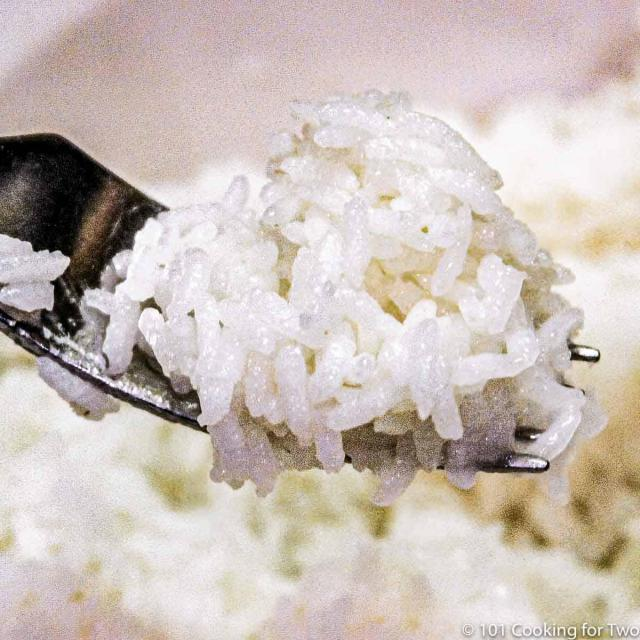rice: (100, 88, 603, 503)
